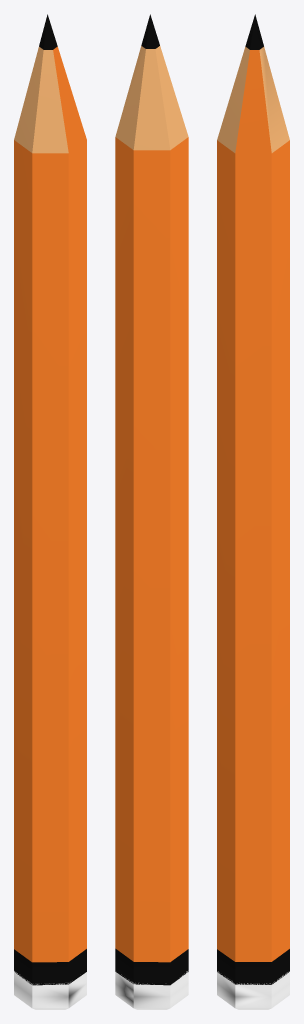
File: pencile.fbx
3 renders of one model, left to right at view 1: azimuth 30°, elevation 25°; view 2: azimuth 150°, elevation 25°; view 3: azimuth 330°, elevation 25°, orthographic.
Visible parts, largest first — view 1: 실린더; view 2: 실린더; view 3: 실린더.
Part boxes in pixels (bbox=[...]): 실린더: bbox=[14, 14, 86, 1009]; 실린더: bbox=[115, 14, 188, 1009]; 실린더: bbox=[217, 14, 289, 1009].
Size of the model in its own units: 1559 by 26764 by 1800.
